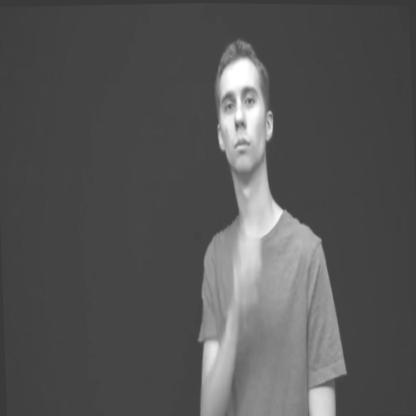Talk: (197, 31, 291, 296)
